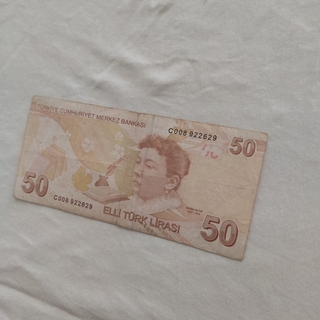50TLBack: (13, 95, 268, 261)
